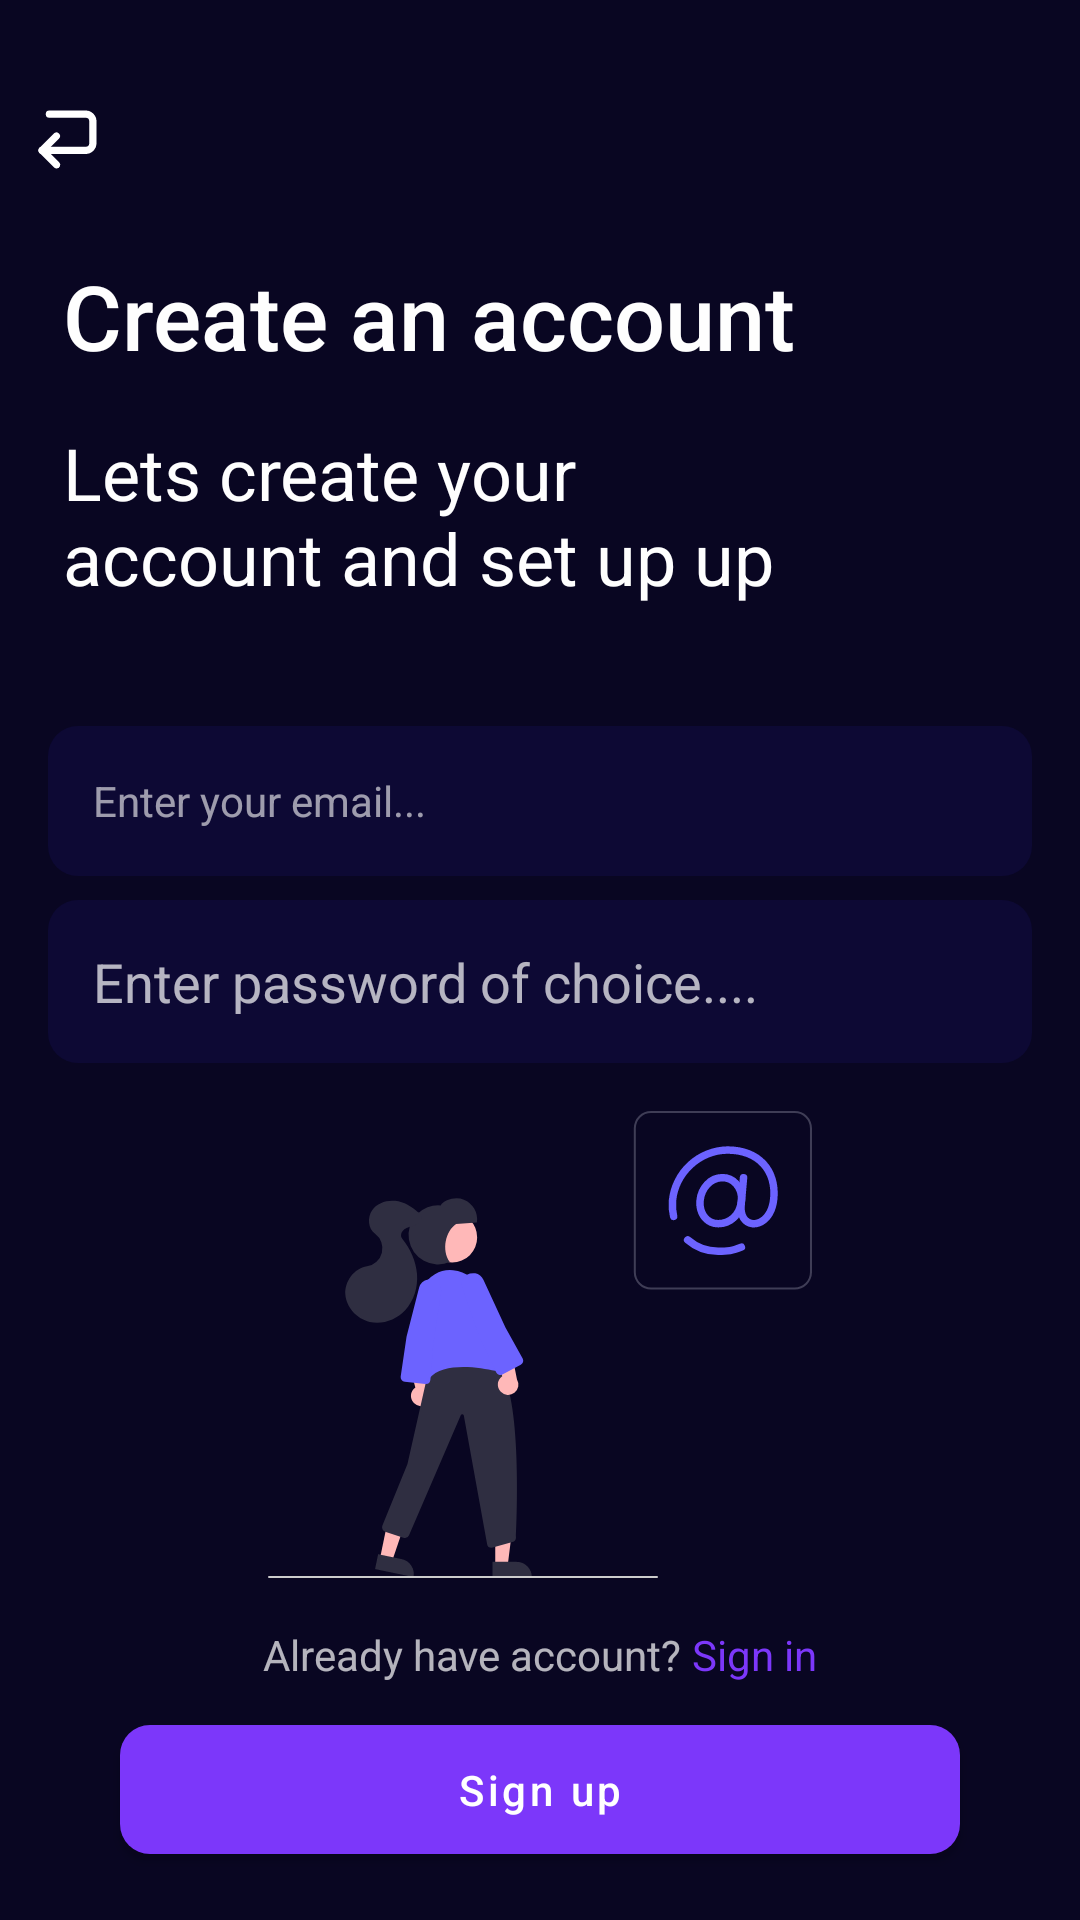

Named icons in this screenshot (1080px×1920px) and their bounding boxes, (x1, y1, x2, y2):
back: (38, 110, 97, 169)
